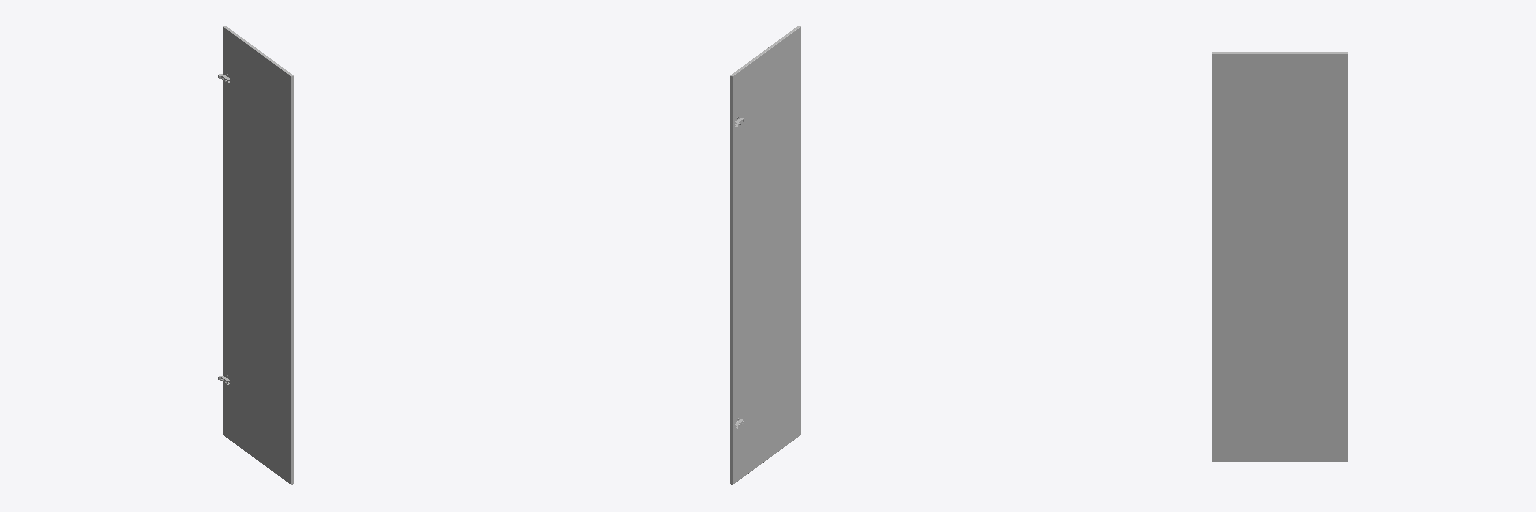
The model's file is WardrobeDoorRight.obj.
3 renders of one model, left to right at view 1: azimuth 30°, elevation 25°; view 2: azimuth 150°, elevation 25°; view 3: azimuth 270°, elevation 25°, orthographic.
Visible parts, largest first — view 1: SM_Kleiderschrank_TürRechts_13; view 2: SM_Kleiderschrank_TürRechts_13; view 3: SM_Kleiderschrank_TürRechts_13.
Part boxes in pixels (left/top/right/bottom): SM_Kleiderschrank_TürRechts_13: left=218, top=26, right=293, bottom=484; SM_Kleiderschrank_TürRechts_13: left=730, top=26, right=800, bottom=484; SM_Kleiderschrank_TürRechts_13: left=1212, top=52, right=1347, bottom=461.
Size of the model in its own units: 3.42 by 165 by 49.93.